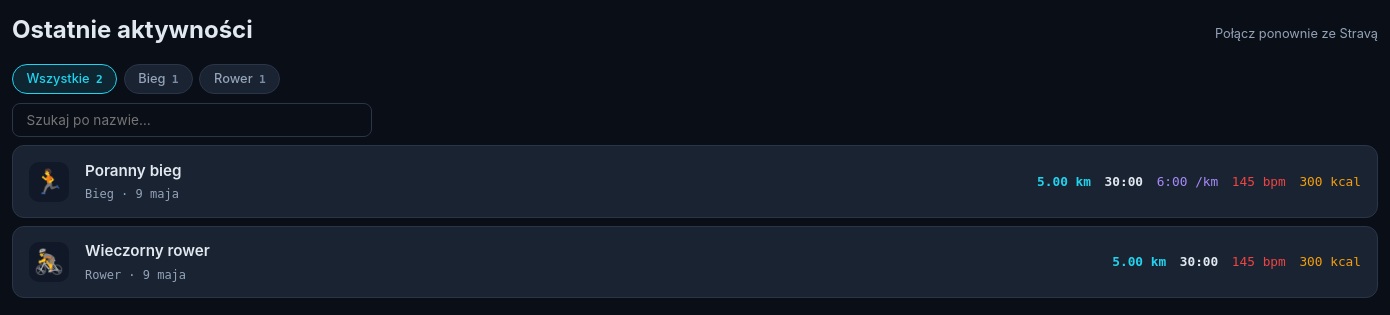
Test: A8 filters › chip click filtruje listę
Expected: the text "Poranny bieg" is shown, [85,161,182,180]
Click the button "Rower 1": (240, 79) [200,64,280,94]
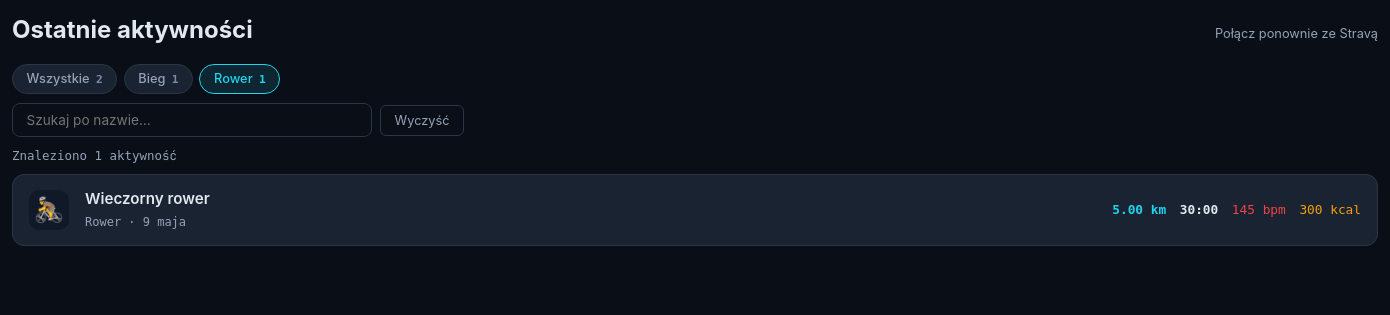
Expected: the text "Wieczorny rower" is shown, [85,189,210,208]
Now the text "Poranny bieg" is gone
Now the text "Znaleziono 1 aktywność" is shown, box [12,147,177,164]
